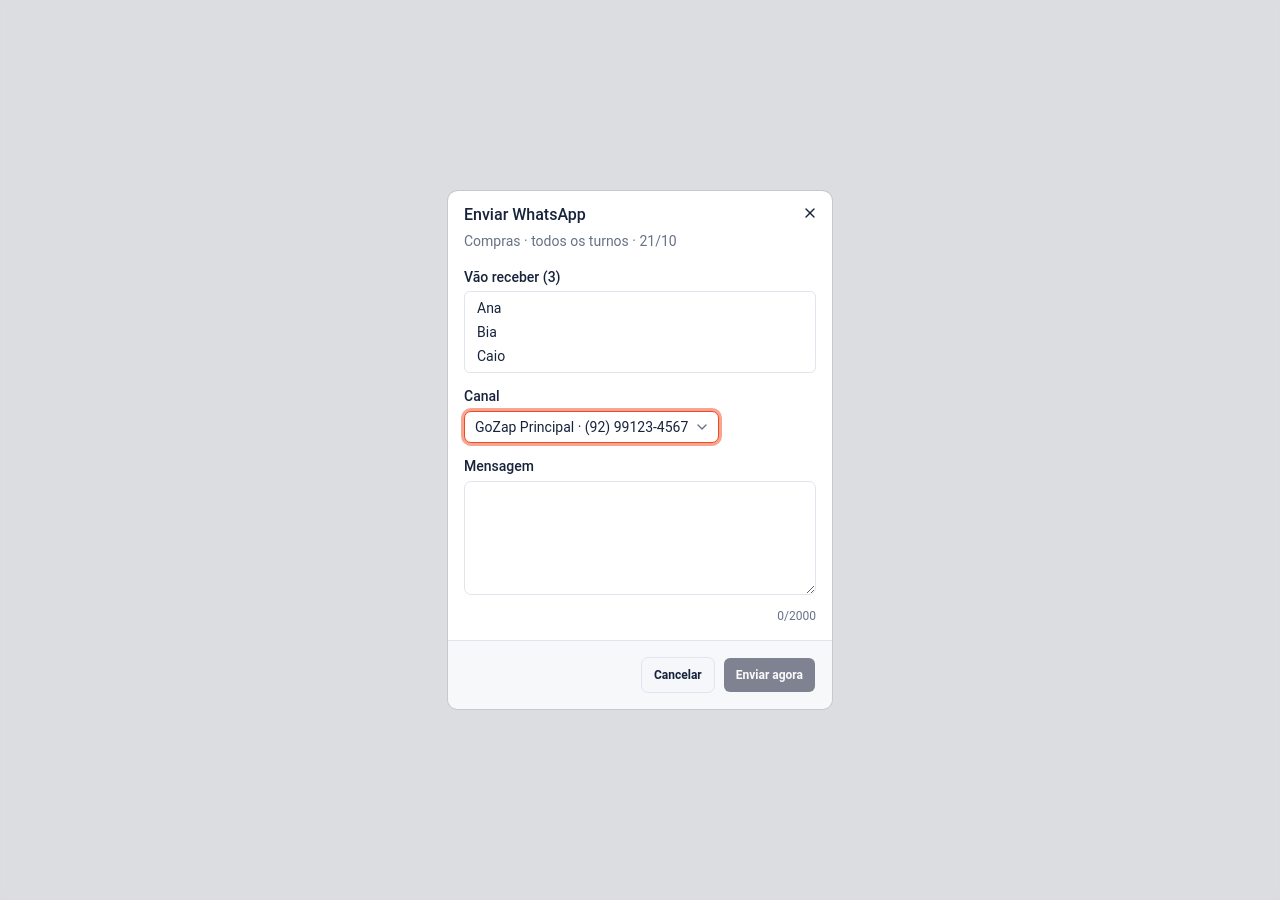
Test: SendWhatsappDialog envio › mostra no diálogo o erro 409 de canal desconectado e não fecha
Type "Oi equipe" into the text box at (640, 538), box [464,481,816,595]
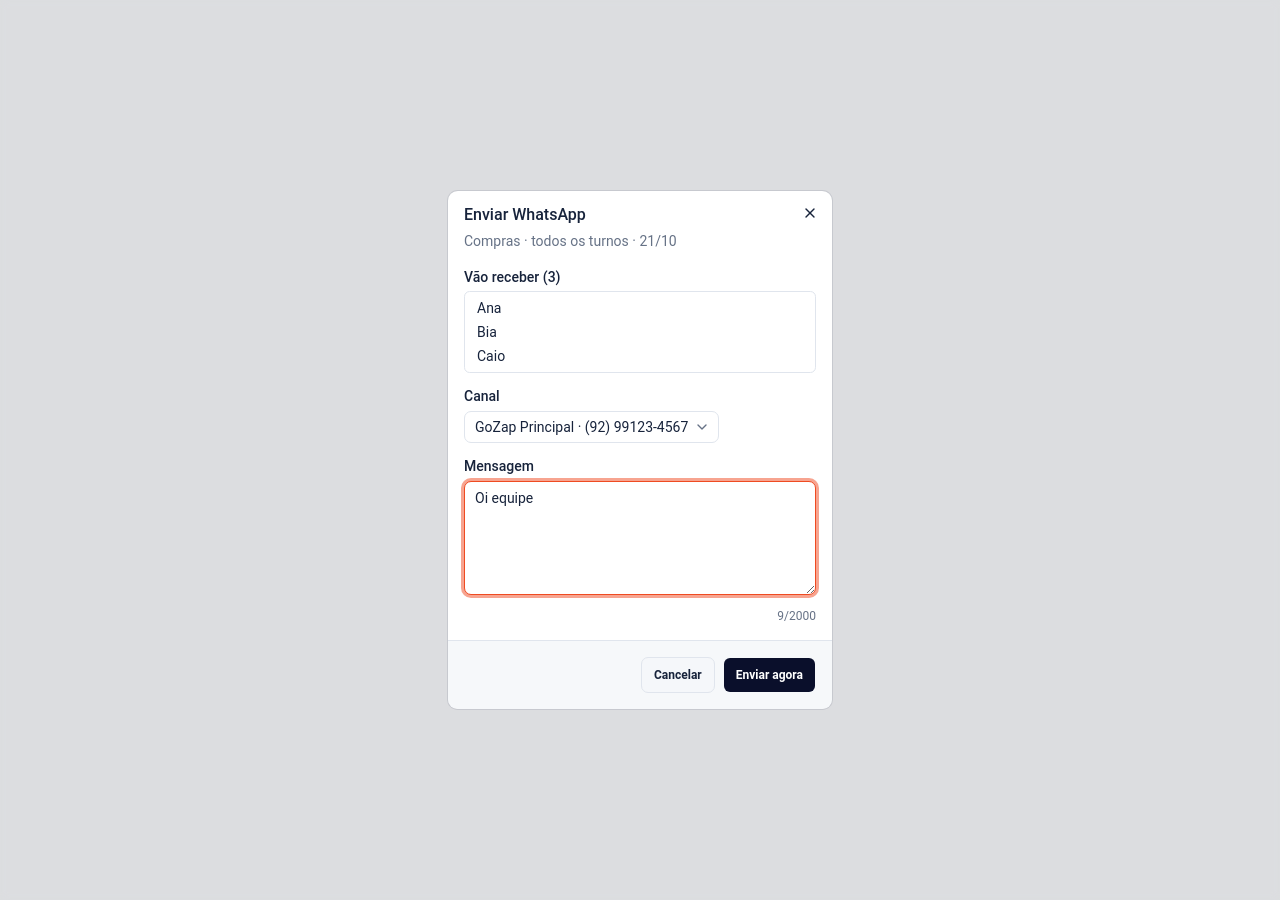
Click the button "Enviar agora" at (769, 675), box [723,657,816,693]
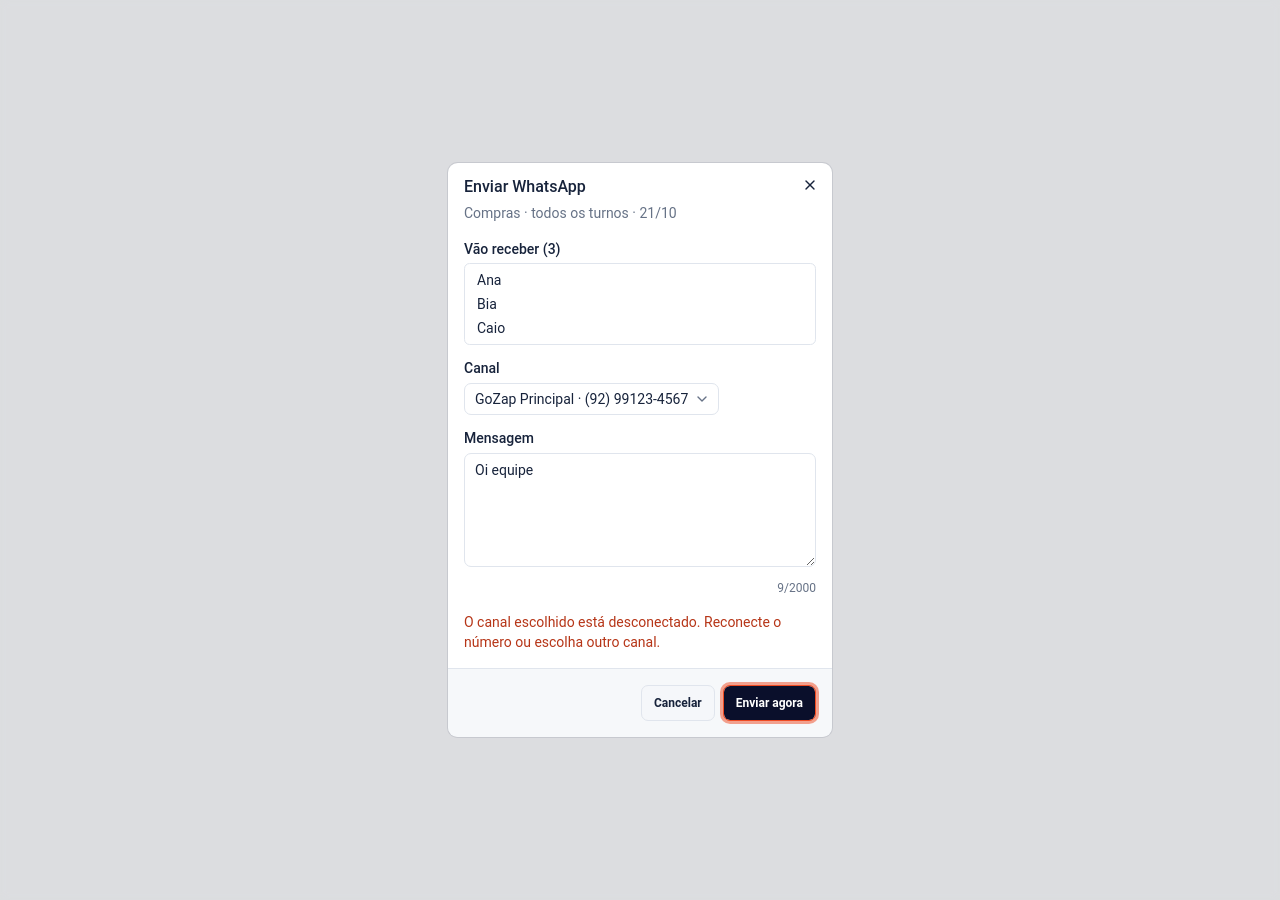
expect the message reads "O canal escolhido está desconectado. Reconecte o número ou escolha outro canal.": met, box [464,614,781,650]
